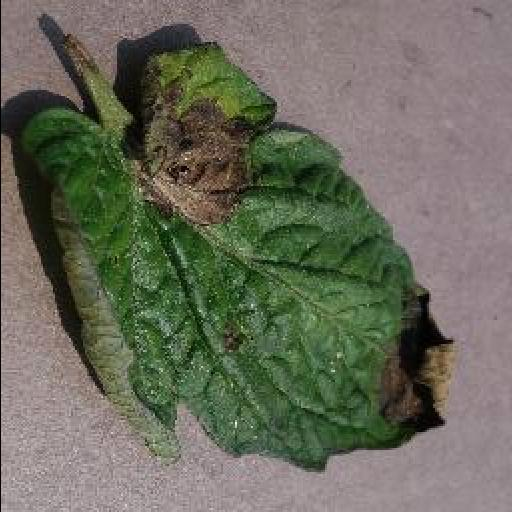disease_tomato: (18, 42, 454, 474)
